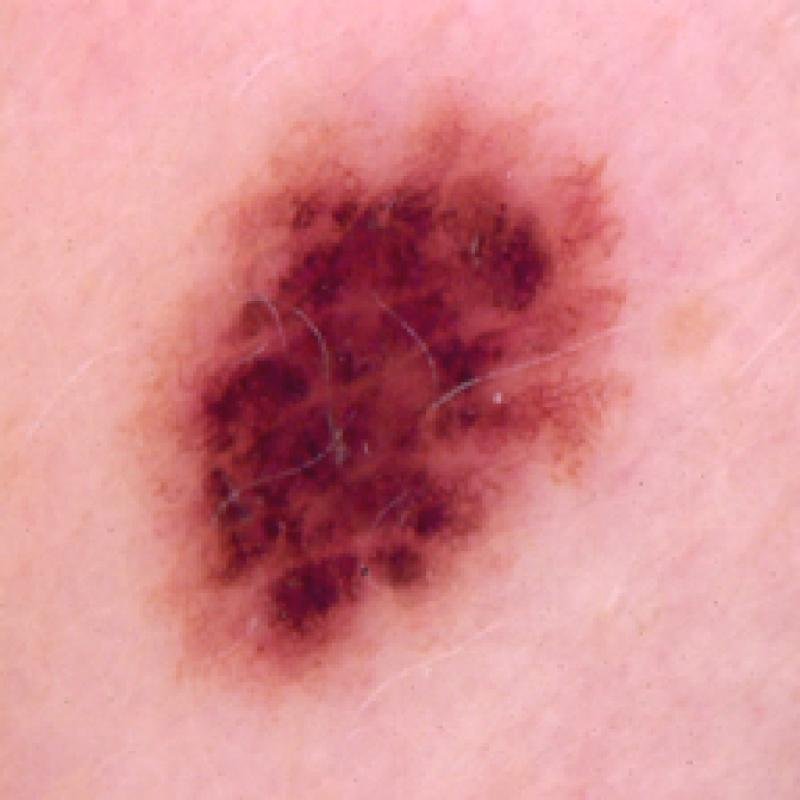benign: (152, 122, 635, 684), (710, 597, 711, 598)
